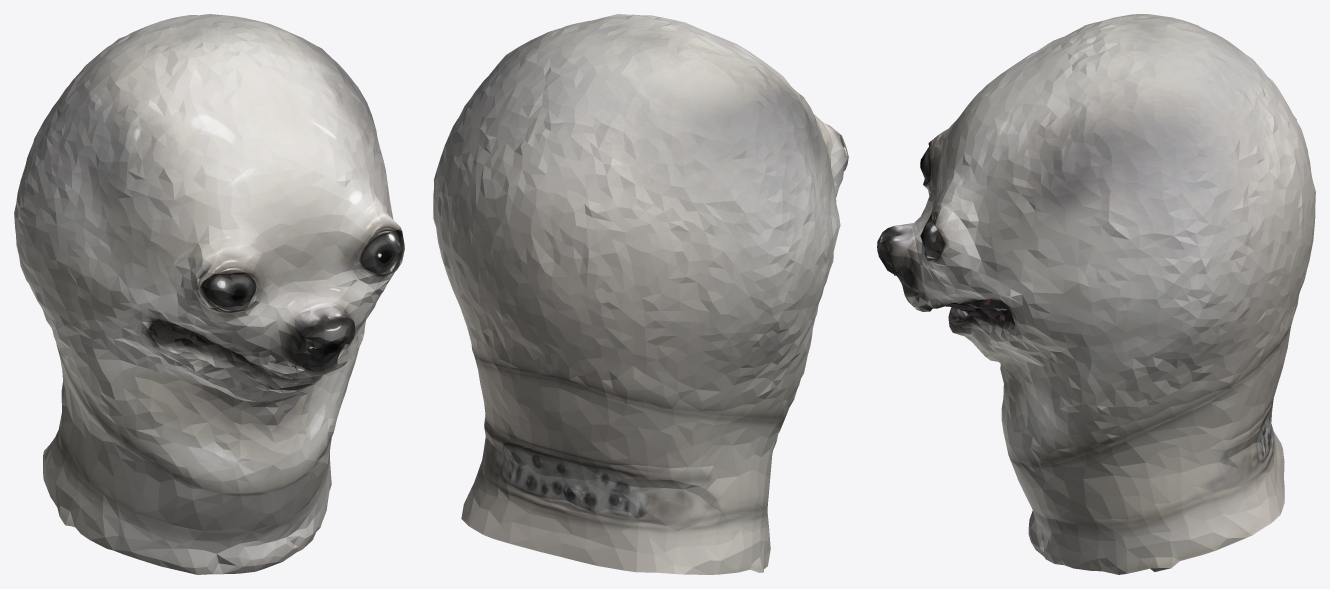
The model's file is Grinning_Chihuahua_0425132646_texture.fbx.
3 views of the same model, side by side, from view 1: azimuth 30°, elevation 25°; view 2: azimuth 150°, elevation 25°; view 3: azimuth 270°, elevation 25° (orthographic). The views are drawn at different scales.
Parts seen in each view (by area): view 1: temp; view 2: temp; view 3: temp.
Part boxes in pixels (bbox=[...]): temp: bbox=[14, 14, 404, 574]; temp: bbox=[433, 14, 848, 574]; temp: bbox=[877, 14, 1315, 574].
Size of the model in its own units: 138 by 200 by 157.
Materials: 1 (1 with a texture image).
